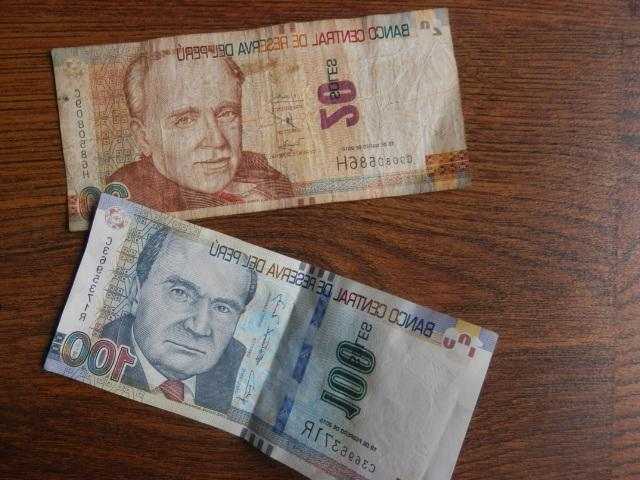B100: (41, 192, 498, 479)
B20: (52, 10, 469, 229)
